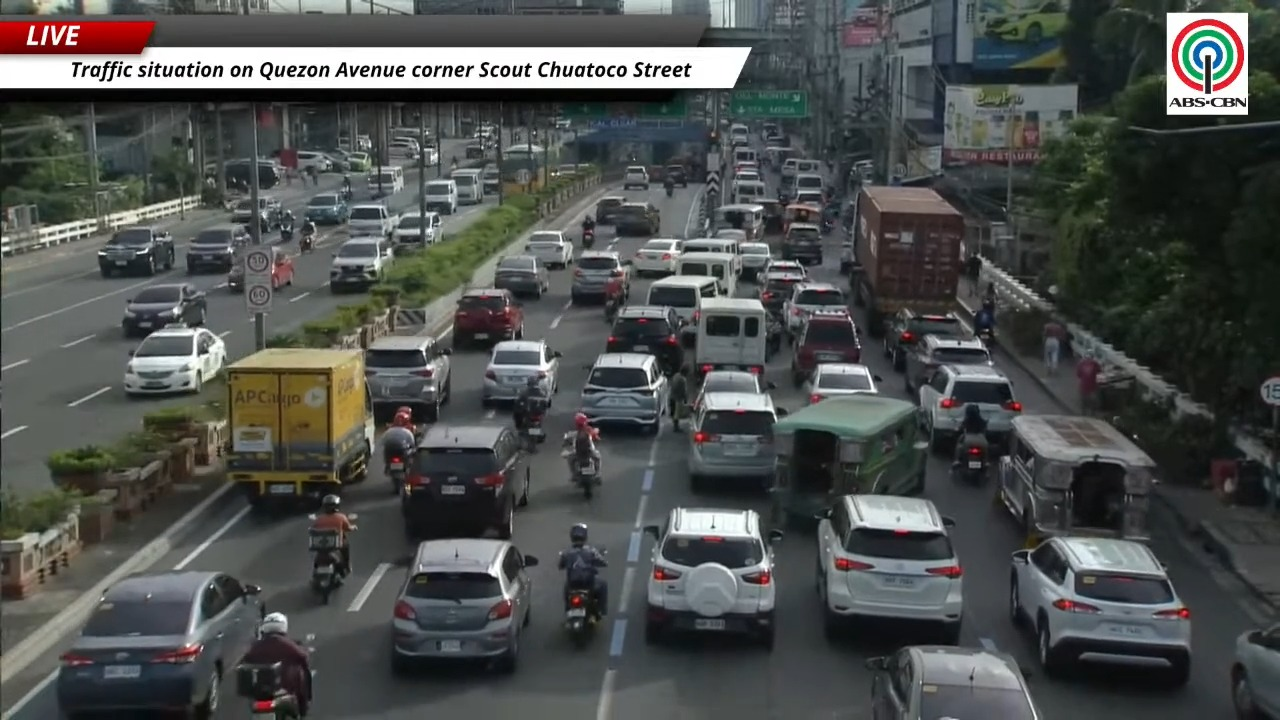car: (55, 571, 263, 717), (1009, 536, 1190, 686), (817, 494, 963, 644), (644, 507, 782, 648), (391, 539, 537, 672), (400, 423, 529, 539), (866, 645, 1043, 719), (687, 392, 784, 491), (918, 365, 1021, 450), (365, 335, 451, 421), (580, 353, 668, 433), (124, 325, 226, 394), (884, 308, 970, 371), (481, 340, 561, 406), (904, 335, 993, 394), (791, 311, 860, 386), (606, 305, 683, 371), (1230, 624, 1280, 720), (122, 283, 206, 337), (453, 288, 522, 347), (97, 226, 175, 277), (982, 0, 1067, 45), (329, 236, 393, 293), (784, 282, 847, 336), (691, 370, 775, 410), (570, 251, 629, 303), (185, 225, 247, 274), (805, 363, 879, 404), (493, 254, 548, 298), (759, 269, 804, 314), (525, 231, 575, 269), (632, 238, 682, 275), (392, 210, 442, 247), (780, 222, 823, 265), (231, 196, 282, 231), (612, 201, 660, 236), (348, 203, 395, 237), (303, 193, 349, 224), (740, 242, 770, 280), (271, 246, 295, 289), (595, 195, 626, 224), (763, 257, 807, 277), (296, 150, 333, 173), (389, 137, 420, 159), (839, 238, 856, 274), (482, 165, 502, 195), (324, 149, 350, 172), (623, 166, 649, 189), (792, 190, 826, 206), (346, 151, 371, 172), (664, 165, 687, 187), (713, 228, 746, 243), (552, 164, 584, 176), (735, 161, 759, 177), (735, 168, 762, 181), (555, 118, 572, 129)
motorcycle: (235, 663, 299, 719), (236, 663, 298, 719), (308, 528, 344, 603), (561, 431, 600, 499), (564, 587, 600, 647), (564, 588, 597, 646), (519, 408, 545, 453), (386, 450, 407, 494), (976, 327, 993, 349), (299, 232, 313, 252), (582, 228, 594, 249), (339, 187, 353, 201), (280, 227, 292, 243), (664, 184, 675, 198), (960, 438, 964, 443)
truck: (224, 348, 375, 507), (850, 185, 965, 337)
